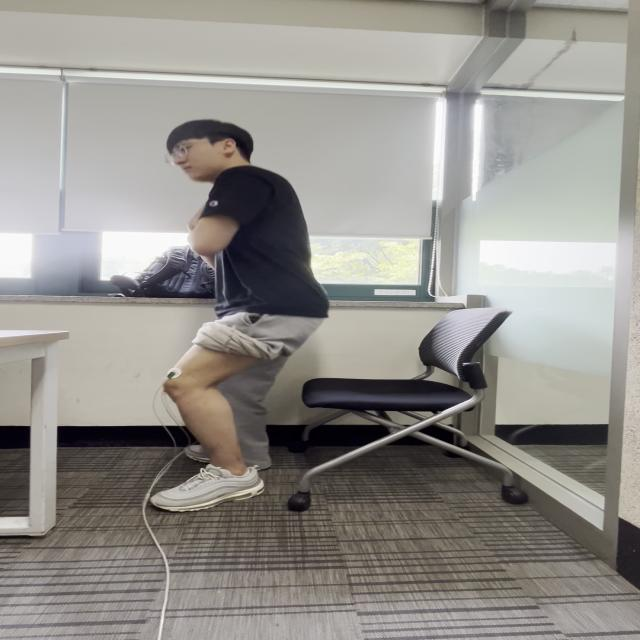stand: (202, 175, 334, 392), (170, 307, 306, 510)
